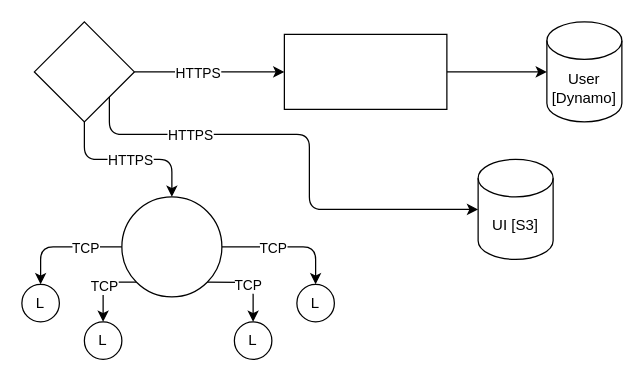
The diagram is 644 pixels wide and 381 high, and some of its shapes have lost their labels. The shapes that lost their labels are listed below. From the top down, each one's centre as x and y in pixels, then its label:
At (x=83, y=71): "Client".
At (x=365, y=71): "User API [API Gateway/Lambda]".
At (x=171, y=246): "Hub API [TBD In Home]".
